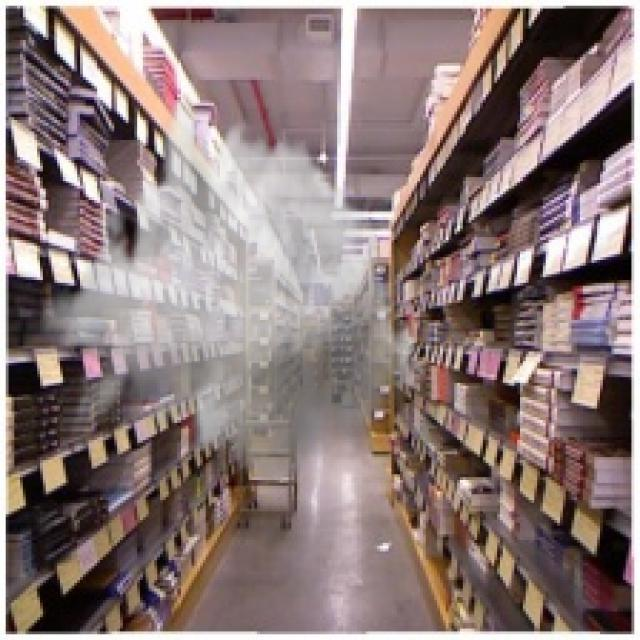Smoke: (37, 92, 420, 497)
